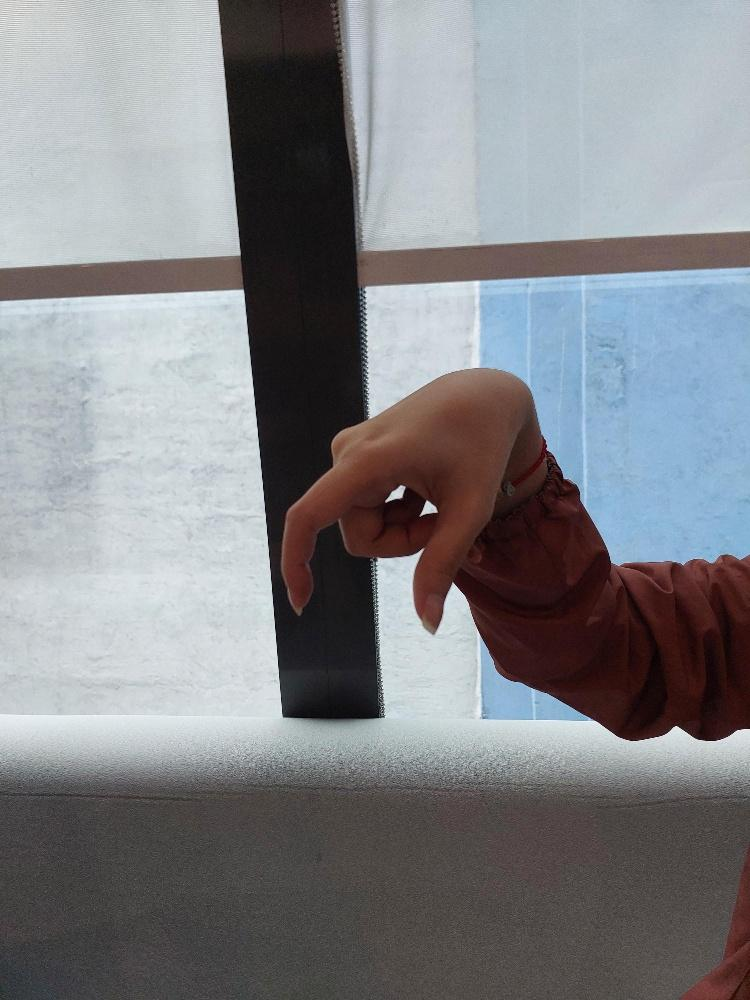q: (279, 364, 516, 636)
